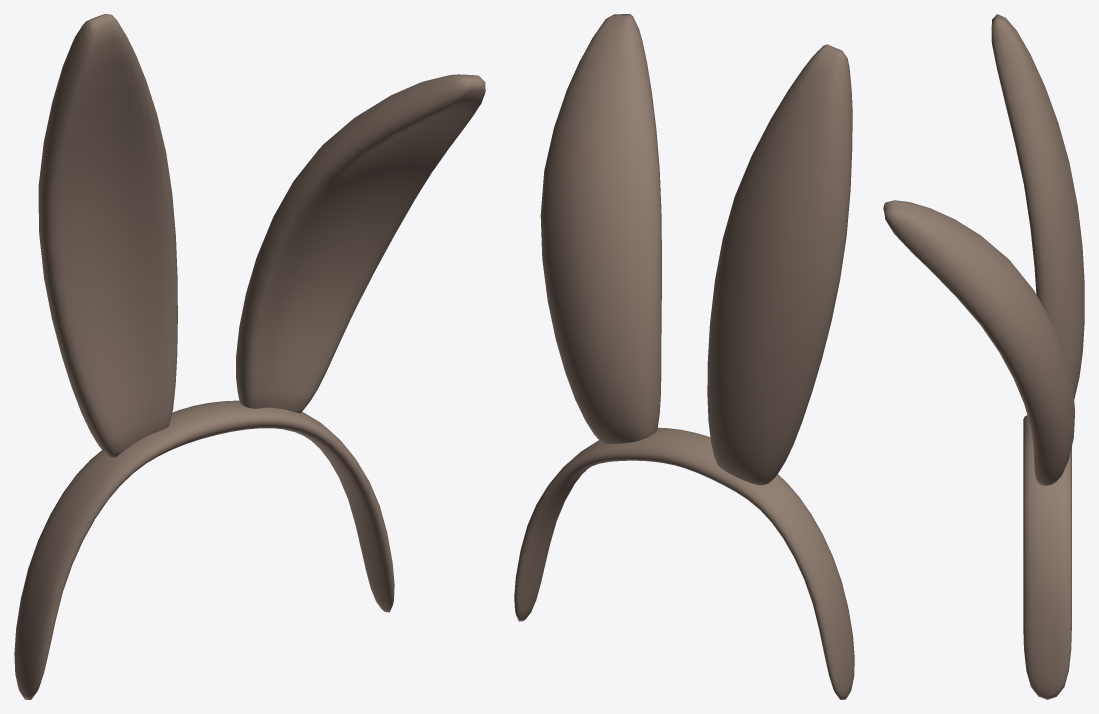
The model's file is bunny_ears.obj.
3 views of the same model, side by side, from view 1: azimuth 30°, elevation 25°; view 2: azimuth 150°, elevation 25°; view 3: azimuth 270°, elevation 25° (orthographic). The views are drawn at different scales.
Visible parts, largest first — view 1: ears; view 2: ears; view 3: ears.
Boxes of the visible parts, <box> form: ears: <box>14,14,485,699</box>; ears: <box>514,14,854,699</box>; ears: <box>883,14,1084,699</box>.
Size of the model in its own units: 18.8 by 33.27 by 10.84.
